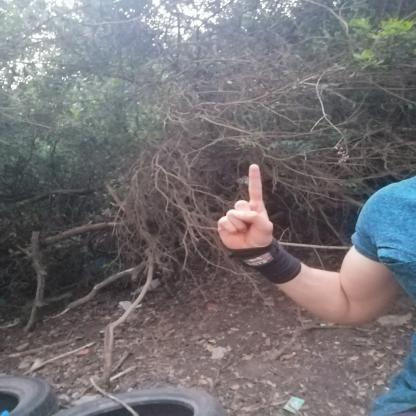BAA: (206, 156, 286, 264)
